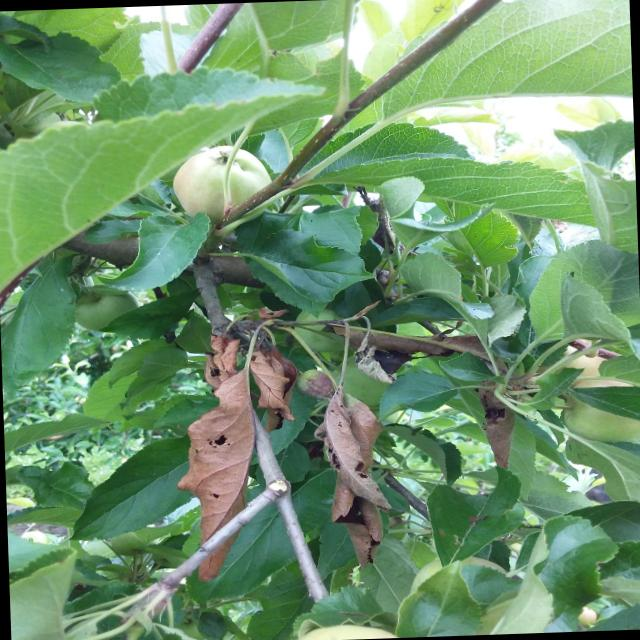-FireBlight-: (297, 369, 388, 572), (188, 340, 259, 582), (254, 348, 296, 428)
